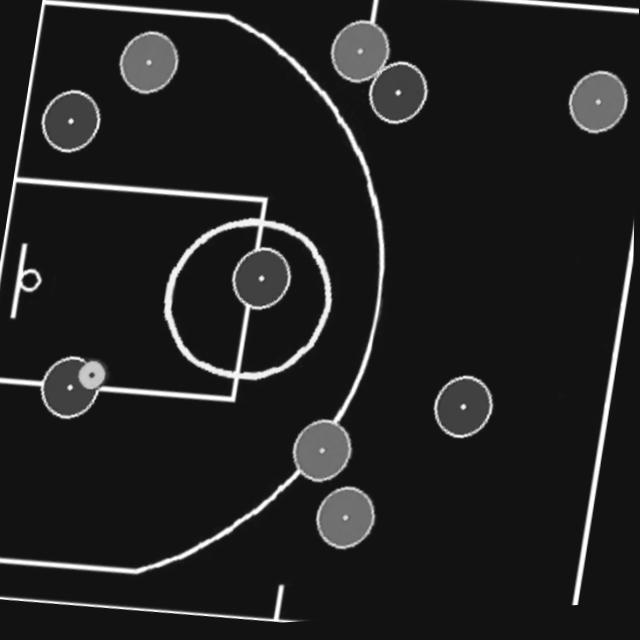Basketball: (77, 358, 112, 395)
Team_A: (430, 376, 499, 450), (36, 351, 104, 424), (37, 86, 104, 159), (364, 62, 431, 134), (228, 246, 295, 318)
Team_B: (313, 485, 381, 559), (326, 20, 394, 93), (115, 28, 182, 101), (564, 73, 631, 146), (290, 419, 357, 491)
